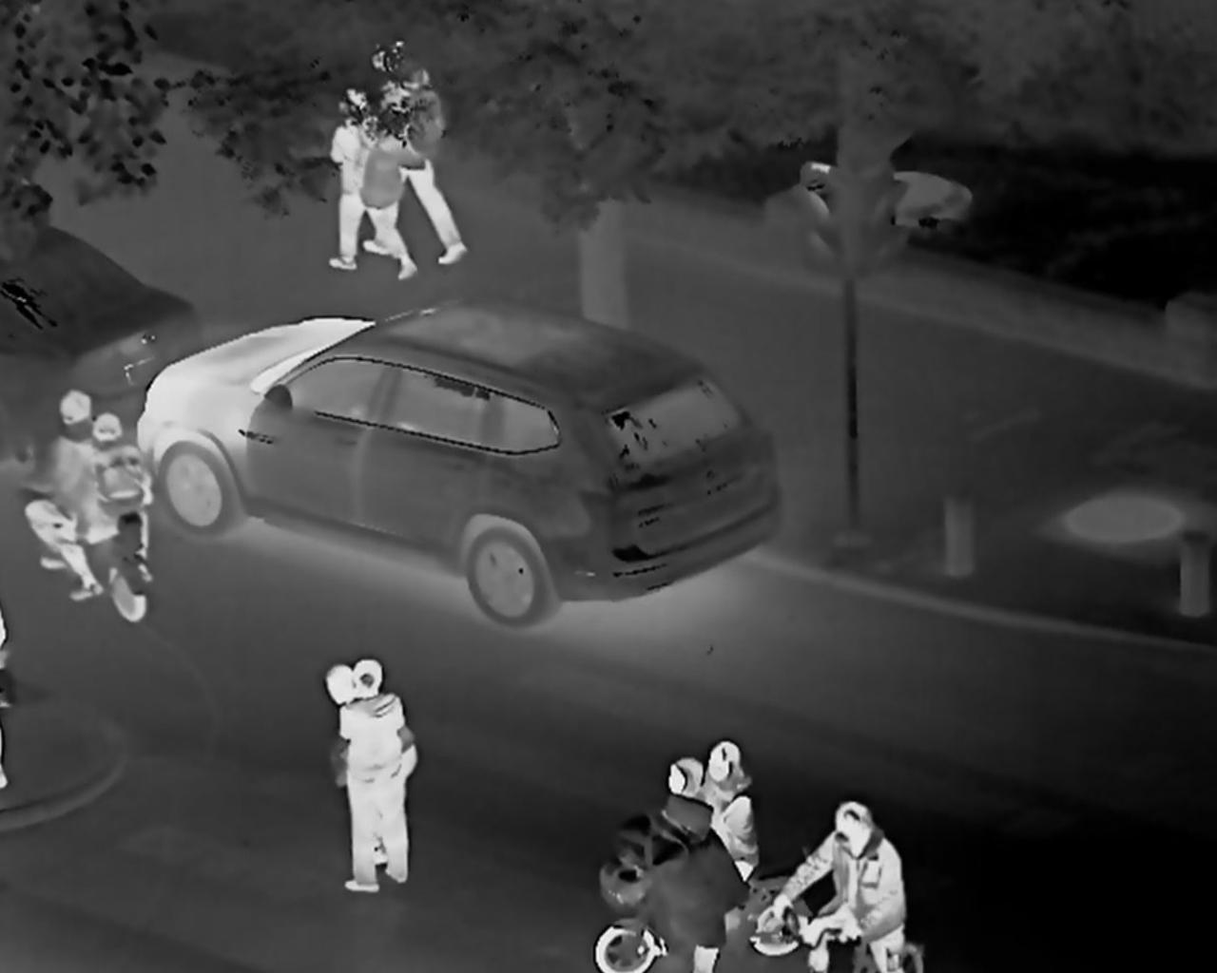person: (319, 648, 445, 920), (39, 388, 133, 593), (382, 50, 462, 283), (806, 801, 922, 960), (322, 100, 393, 280), (657, 749, 725, 918), (721, 749, 766, 869)
